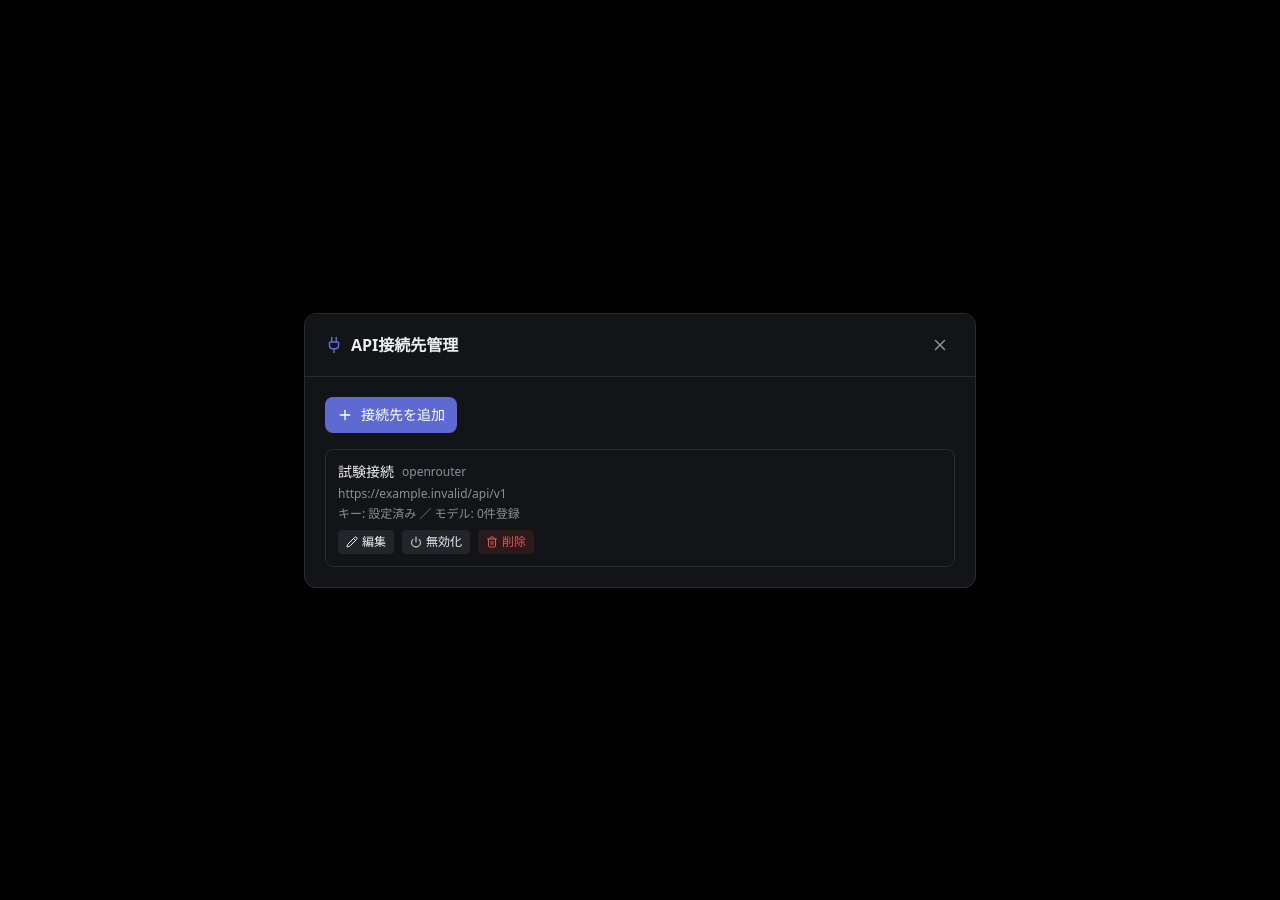
Test: API接続先管理UI › 認証必須接続のキー未設定エラーを表示し、成功扱いのモデル選択欄を出さない
Expected: the text "試験接続" is shown, [338, 462, 394, 482]
Click the button "接続先を追加": (391, 414) [325, 396, 457, 432]
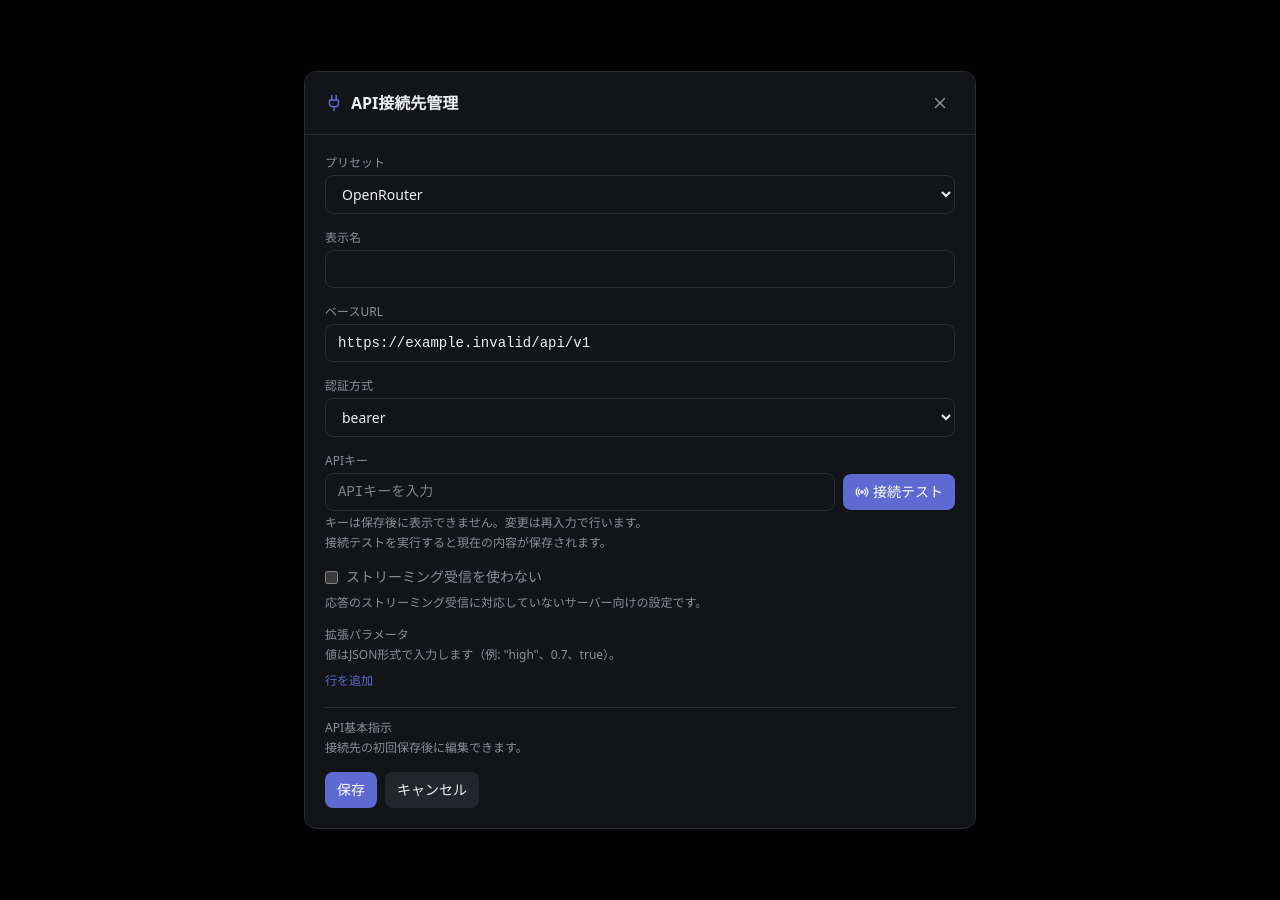
Click the button "接続テスト": (899, 492) [843, 474, 955, 510]
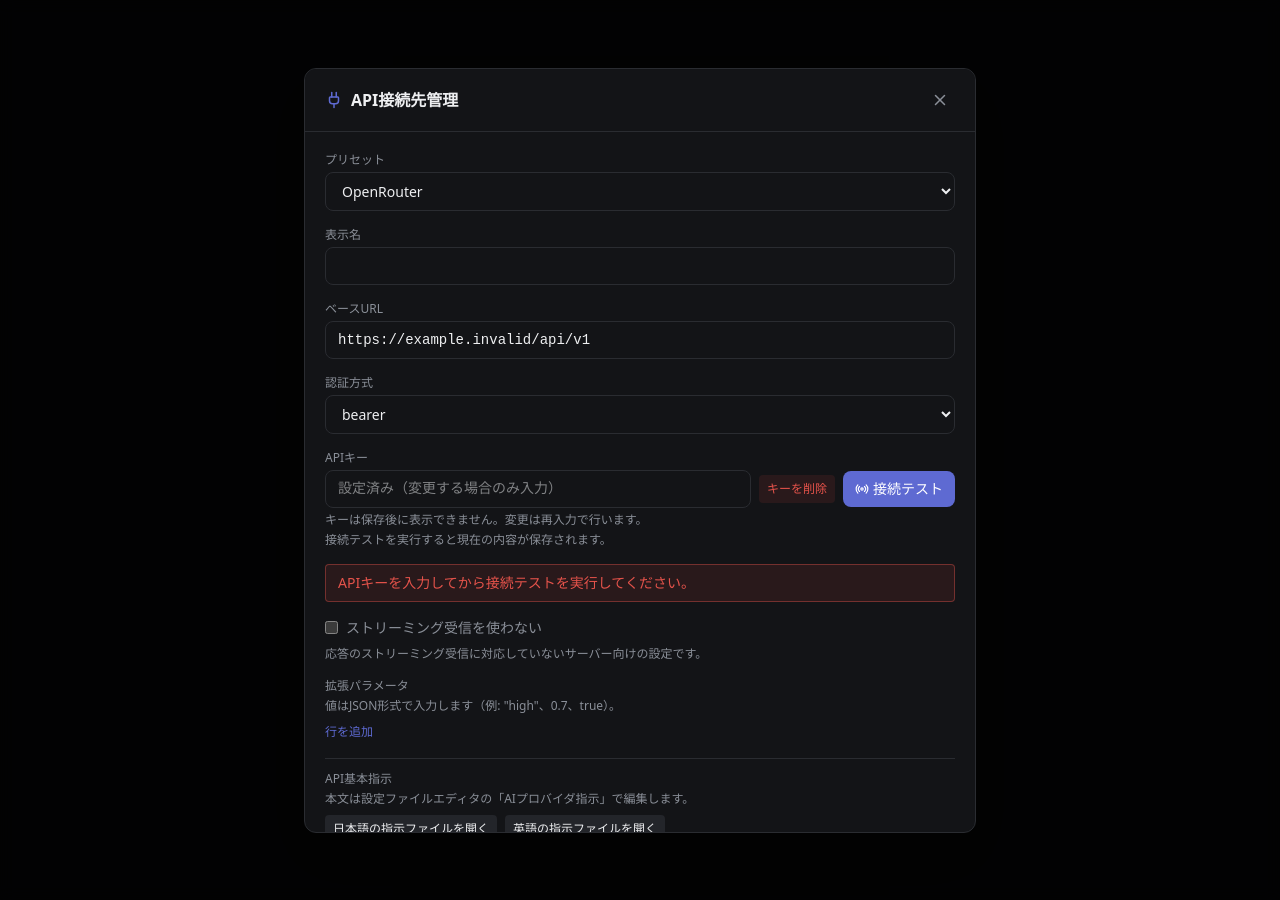
Expected: the text "APIキーを入力してから接続テストを実行してください。" is shown, [338, 572, 695, 592]
